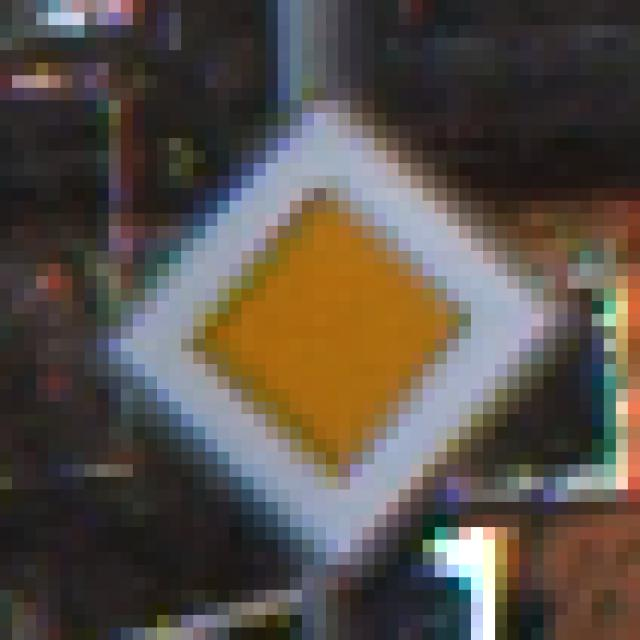Main Road: (74, 64, 581, 578)
